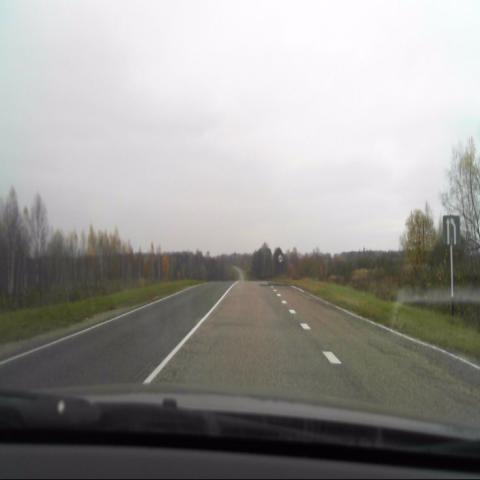5_15_5: (443, 215, 461, 247)
